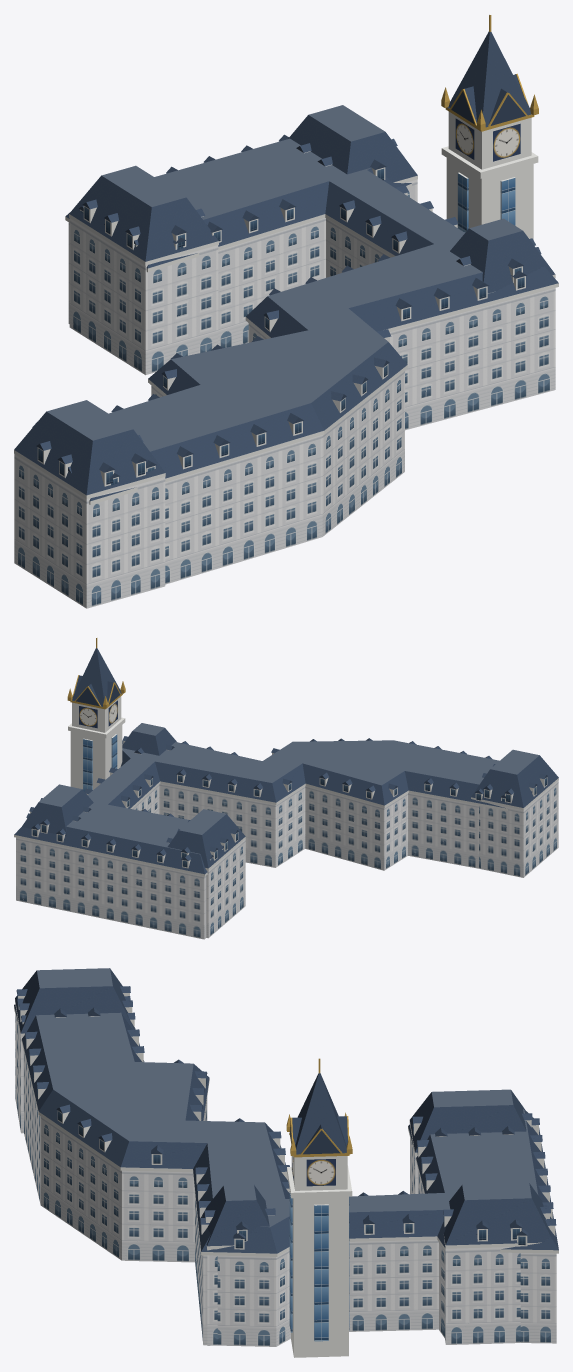
Rendered from yifulou.glb.
3 renders of one model, top to bottom at view 1: azimuth 30°, elevation 25°; view 2: azimuth 150°, elevation 25°; view 3: azimuth 270°, elevation 25°, orthographic. The views are drawn at different scales.
Visible parts, largest first — view 1: 逸夫楼_主体, 逸夫楼_屋顶, 逸夫楼_钟楼; view 2: 逸夫楼_主体, 逸夫楼_屋顶, 逸夫楼_钟楼; view 3: 逸夫楼_屋顶, 逸夫楼_主体, 逸夫楼_钟楼.
Boxes of the visible parts, <box> form: 逸夫楼_主体: <box>14,175,558,608</box>; 逸夫楼_屋顶: <box>14,105,558,501</box>; 逸夫楼_钟楼: <box>441,15,538,239</box>; 逸夫楼_主体: <box>14,778,558,939</box>; 逸夫楼_屋顶: <box>14,723,558,874</box>; 逸夫楼_钟楼: <box>67,638,125,791</box>; 逸夫楼_屋顶: <box>14,968,558,1253</box>; 逸夫楼_主体: <box>14,999,558,1346</box>; 逸夫楼_钟楼: <box>286,1058,352,1357</box>.
Size of the model in its own units: 102 by 51.8 by 89.09.
9 materials, 6 textured.
